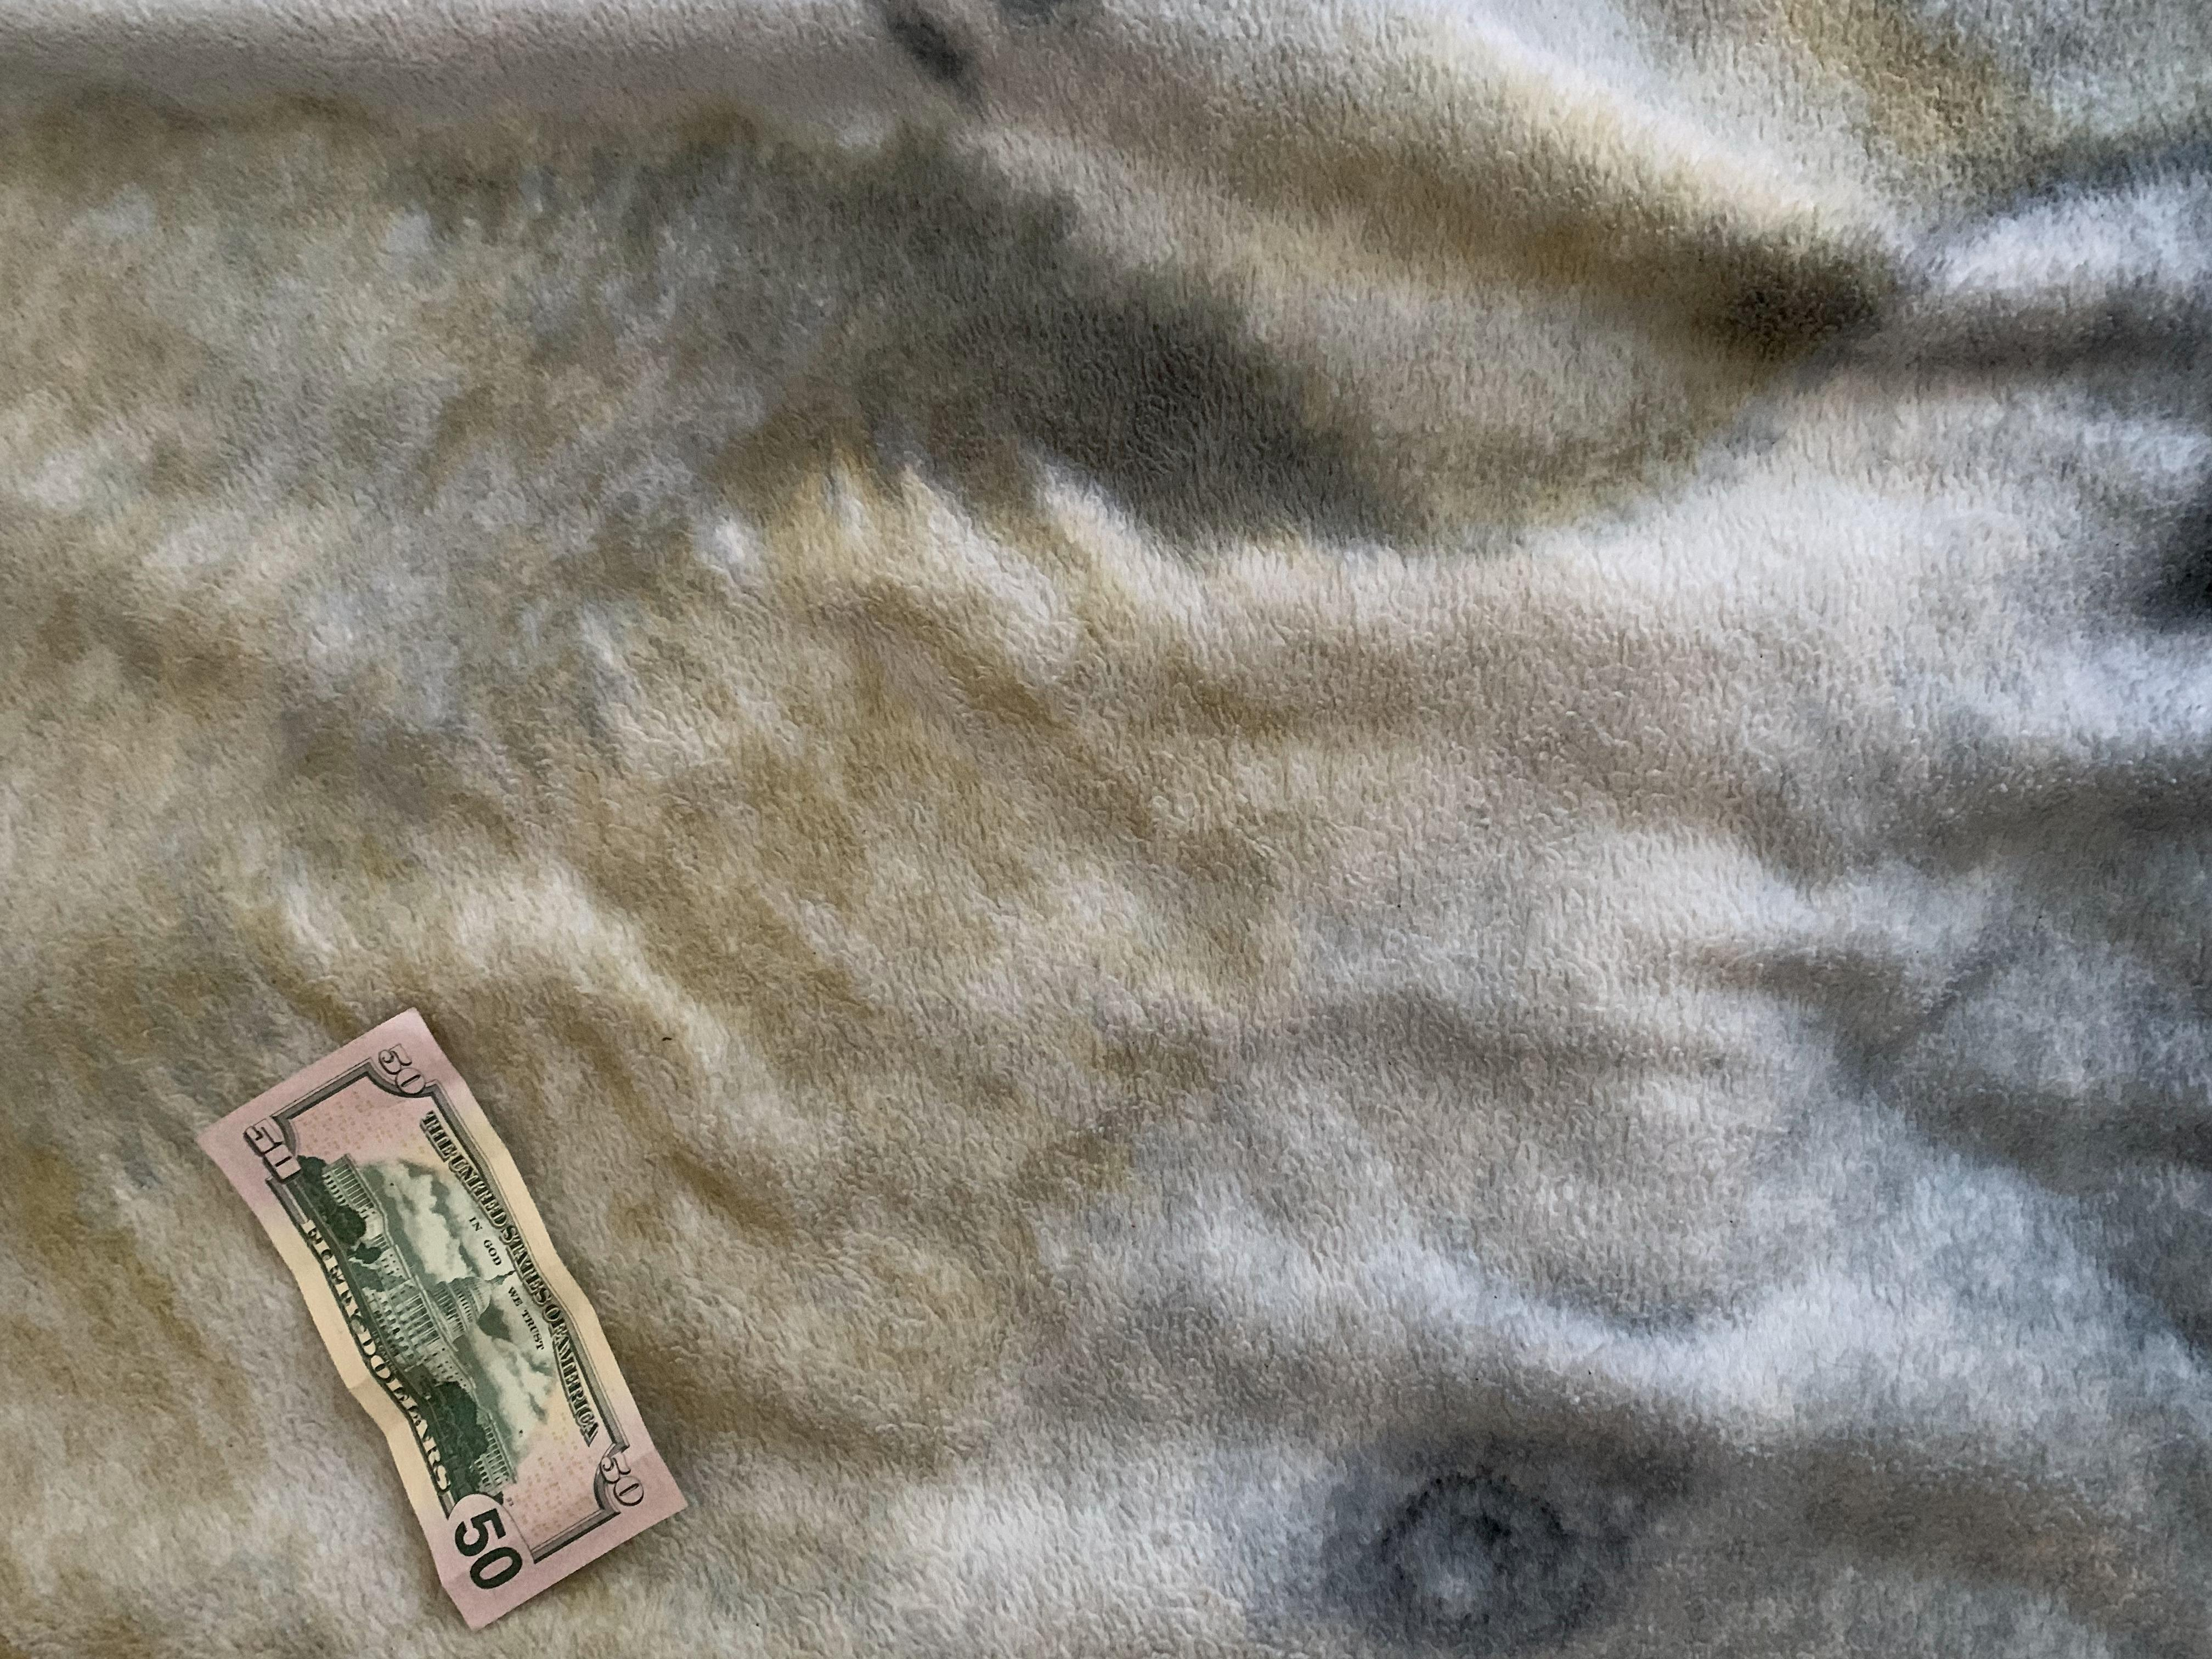FiftyBill: (190, 1012, 691, 1629)
